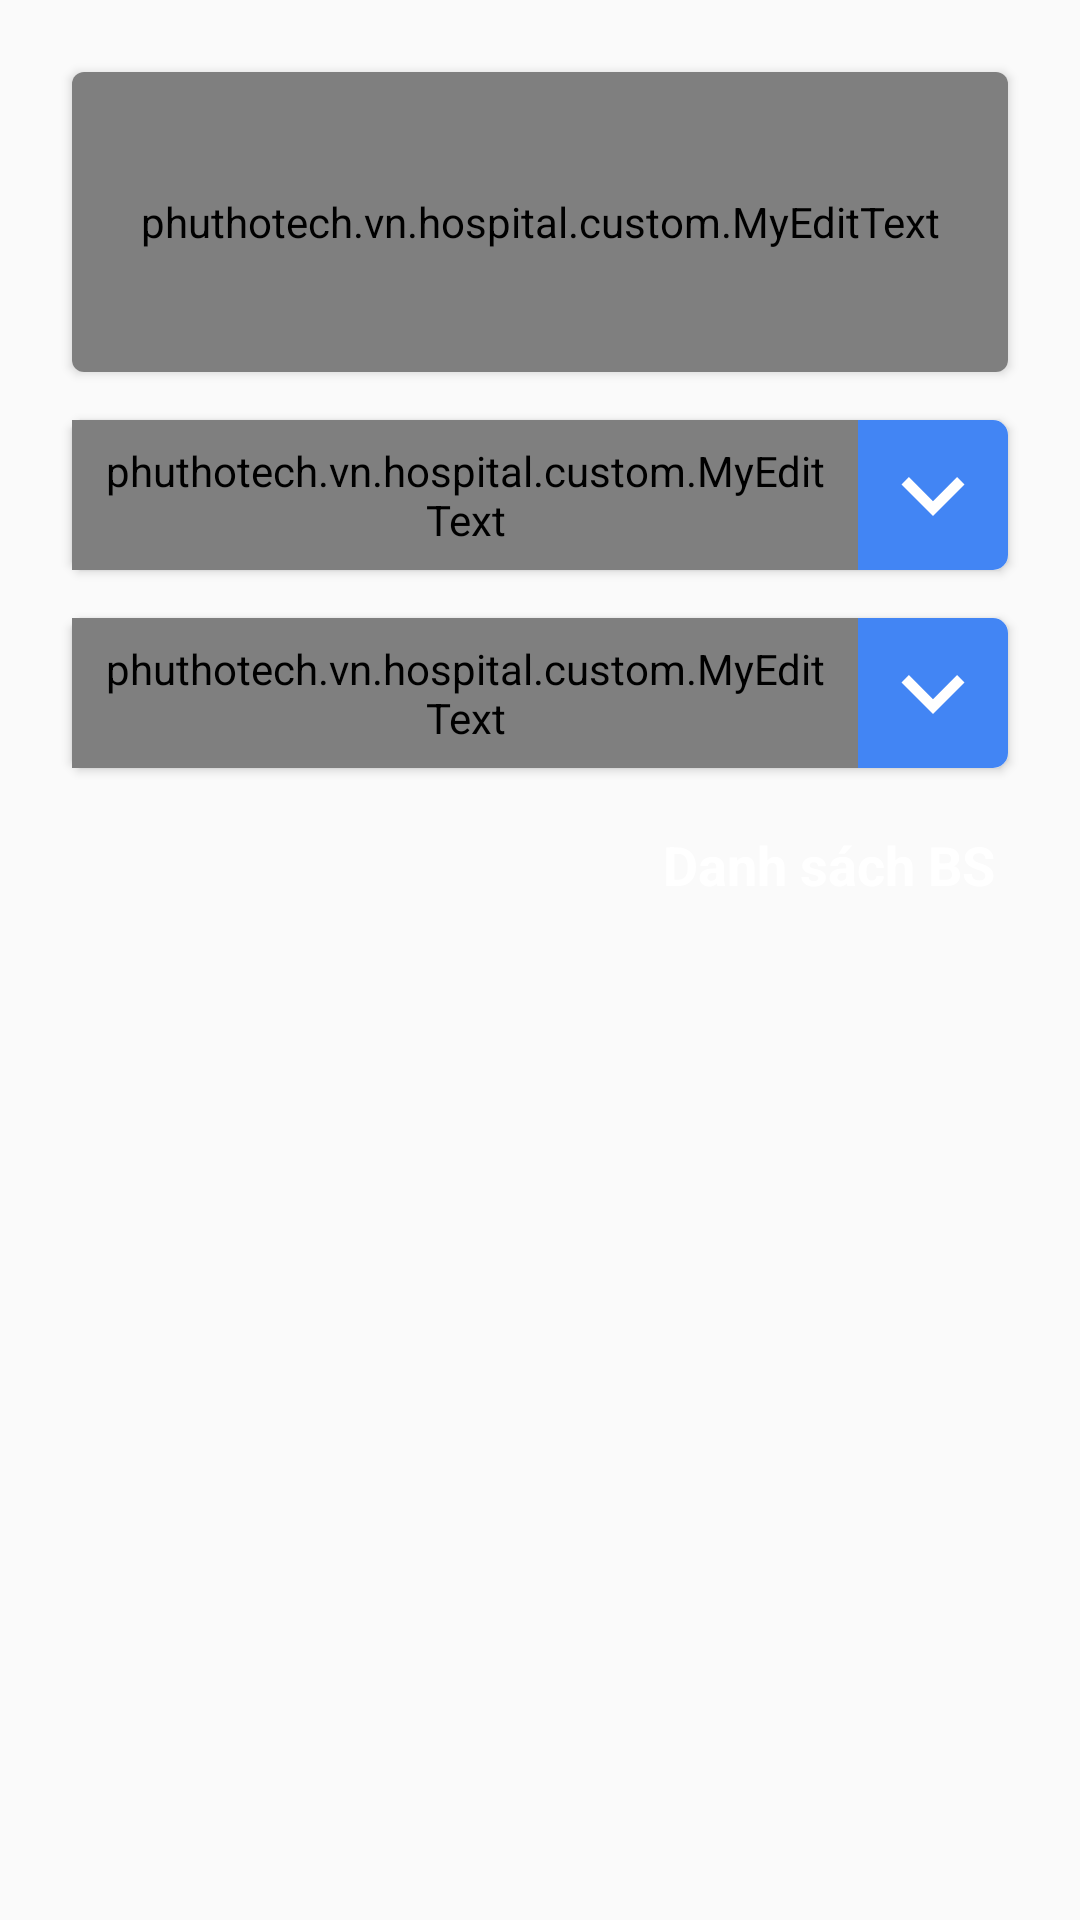

Icon bounding boxes for this 1080w x 1920h phone screenshot, format [x1,y1,x2,y2]:
expand more: [858,420,1008,570], [858,618,1008,768]
